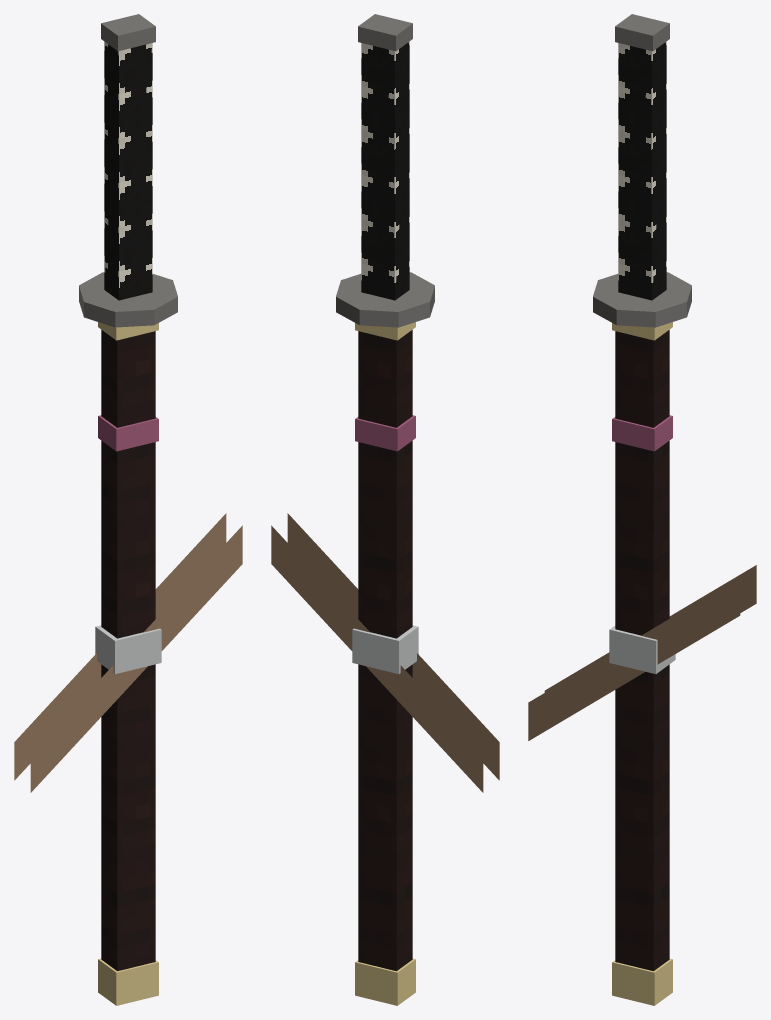
Rendered from back_sheath.glb.
3 views of the same model, side by side, from view 1: azimuth 30°, elevation 25°; view 2: azimuth 150°, elevation 25°; view 3: azimuth 330°, elevation 25° (orthographic).
Visible parts, largest first — view 1: Lapa_lacquer, Lapa_wrap, Lapa_strap, Lapa_iron, Lapa_brass, Lapa_steel, Lapa_cord; view 2: Lapa_lacquer, Lapa_wrap, Lapa_strap, Lapa_iron, Lapa_brass, Lapa_steel, Lapa_cord; view 3: Lapa_lacquer, Lapa_wrap, Lapa_strap, Lapa_iron, Lapa_brass, Lapa_steel, Lapa_cord.
Part boxes in pixels (<box>): Lapa_lacquer: <box>101,330,155,971</box>; Lapa_wrap: <box>104,41,152,300</box>; Lapa_strap: <box>14,513,242,792</box>; Lapa_iron: <box>79,14,177,327</box>; Lapa_brass: <box>98,322,158,1005</box>; Lapa_steel: <box>95,625,161,673</box>; Lapa_cord: <box>98,415,158,451</box>; Lapa_lacquer: <box>358,330,412,971</box>; Lapa_wrap: <box>361,41,409,300</box>; Lapa_strap: <box>271,513,499,792</box>; Lapa_iron: <box>336,14,434,327</box>; Lapa_brass: <box>355,322,415,1005</box>; Lapa_steel: <box>352,625,418,673</box>; Lapa_cord: <box>355,415,415,451</box>; Lapa_lacquer: <box>615,330,669,971</box>; Lapa_wrap: <box>618,41,666,300</box>; Lapa_strap: <box>528,565,756,740</box>; Lapa_iron: <box>593,14,691,327</box>; Lapa_brass: <box>612,322,672,1005</box>; Lapa_steel: <box>609,625,675,673</box>; Lapa_cord: <box>612,415,672,451</box>.
Size of the model in its own units: 0.2 by 0.874 by 0.084.
Materials: 7 (2 with a texture image).
